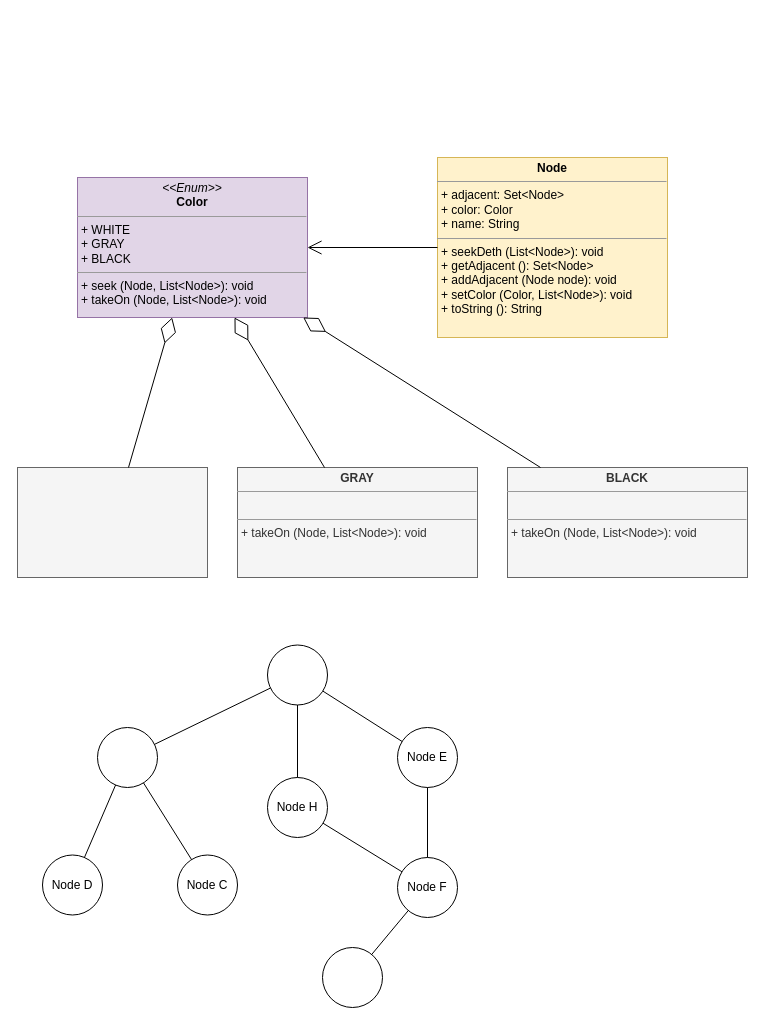
Image size: 765x1025. Some labels were removed from this diagram. The shapes that lost their labels are listed below. From the top down, each one's centre as x and y in pixels, then its label:
[112,522]: WHITE + seek (Node): void
[297,674]: Node A
[127,757]: Node B
[352,977]: Node G
